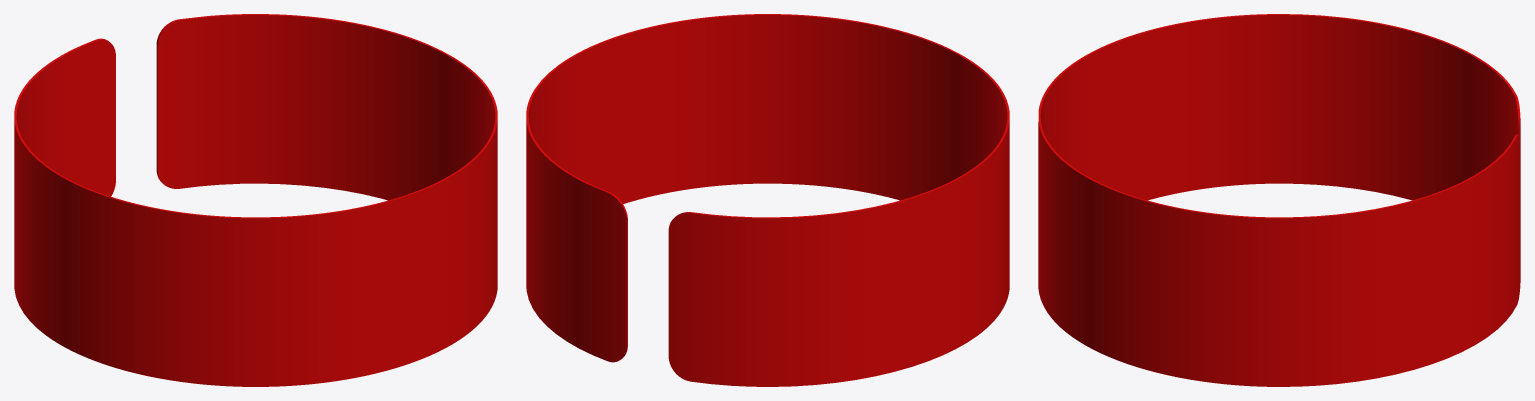
File: supplement-circle-label.glb
The picture shows the model from 3 angles, left to right: view 1: azimuth 30°, elevation 25°; view 2: azimuth 150°, elevation 25°; view 3: azimuth 270°, elevation 25°; orthographic projection.
Size of the model in its own units: 0.002 by 0.00077 by 0.002.
